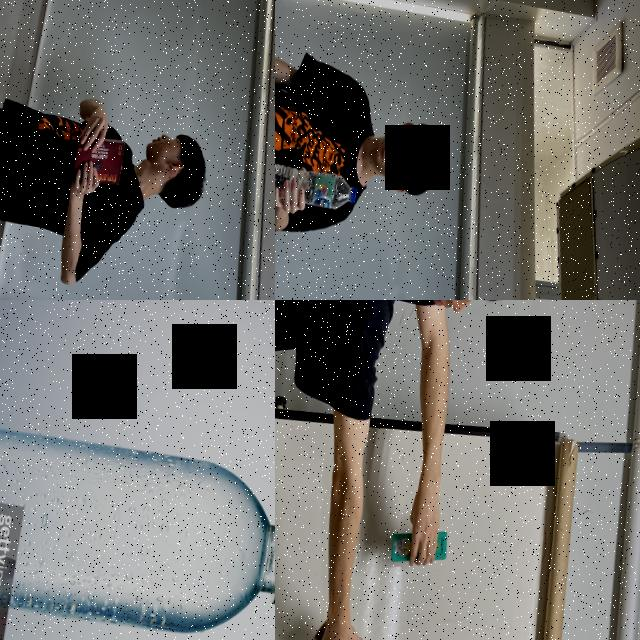bottle: (0, 404, 275, 640), (275, 160, 359, 216)
cup: (304, 615, 377, 640)
